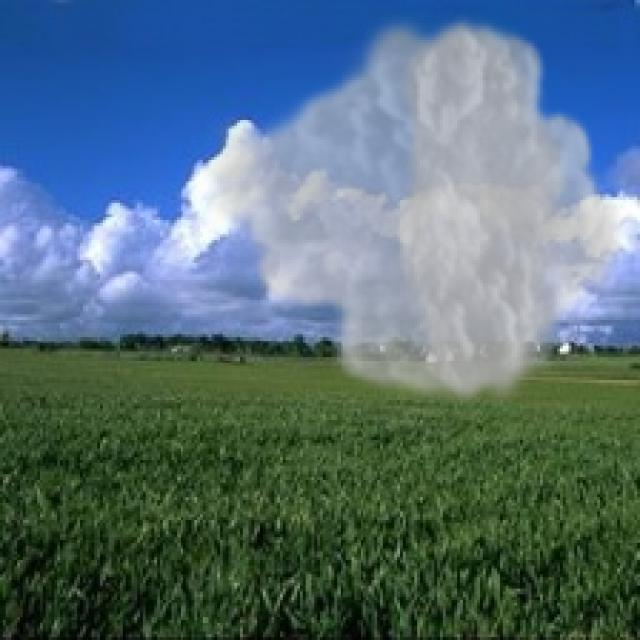smoke: (203, 9, 626, 412)
